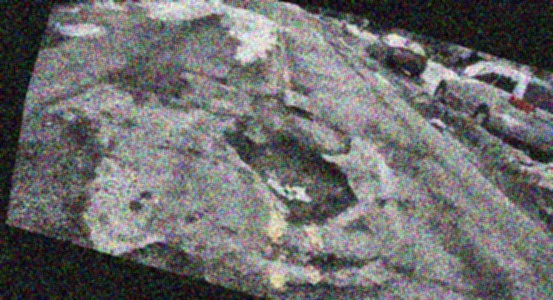pothole: (287, 100, 316, 121)
